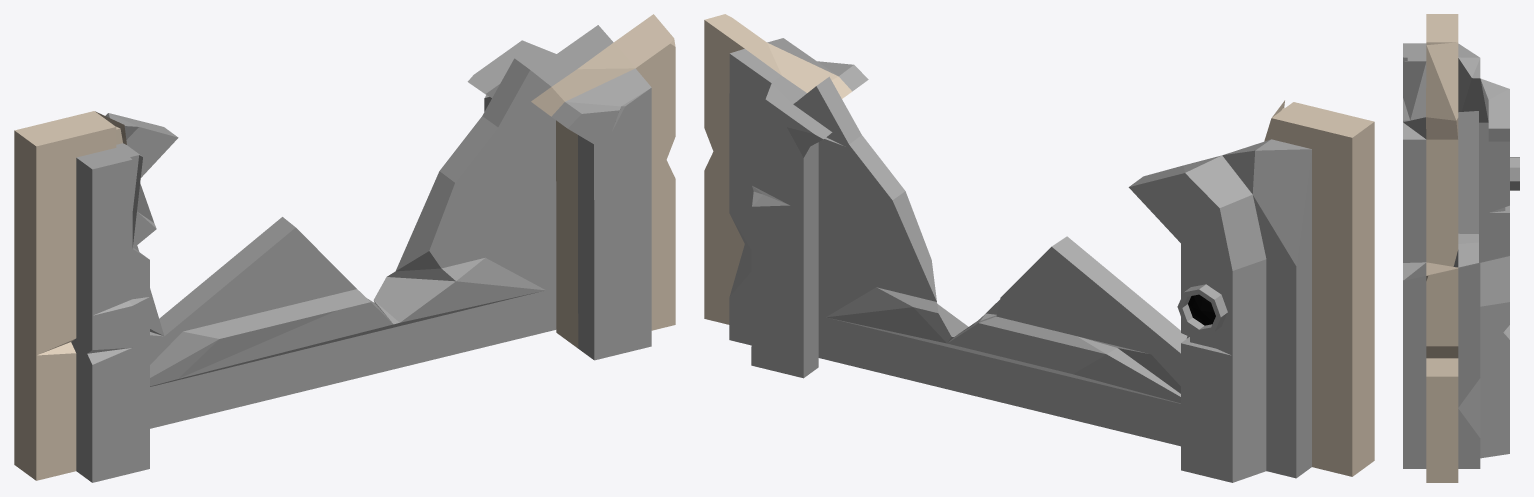
The model's file is Broken_Door_002.fbx.
3 renders of one model, left to right at view 1: azimuth 30°, elevation 25°; view 2: azimuth 150°, elevation 25°; view 3: azimuth 270°, elevation 25°, orthographic. The views are drawn at different scales.
Visible parts, largest first — view 1: Broken_Door_002; view 2: Broken_Door_002; view 3: Broken_Door_002.
Boxes of the visible parts, <box> form: Broken_Door_002: <box>14,14,675,482</box>; Broken_Door_002: <box>704,14,1374,482</box>; Broken_Door_002: <box>1403,14,1519,482</box>.
Bounding box in the file's own units: 6 × 3 × 1.31.
